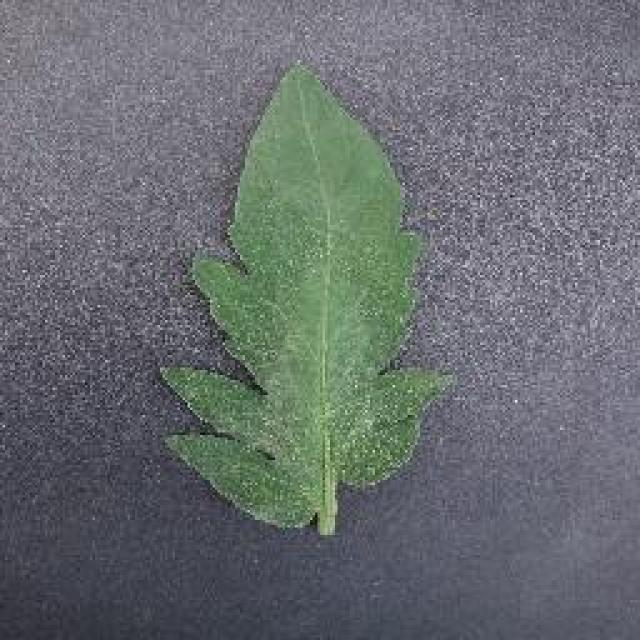Healthy: (152, 55, 458, 540)
